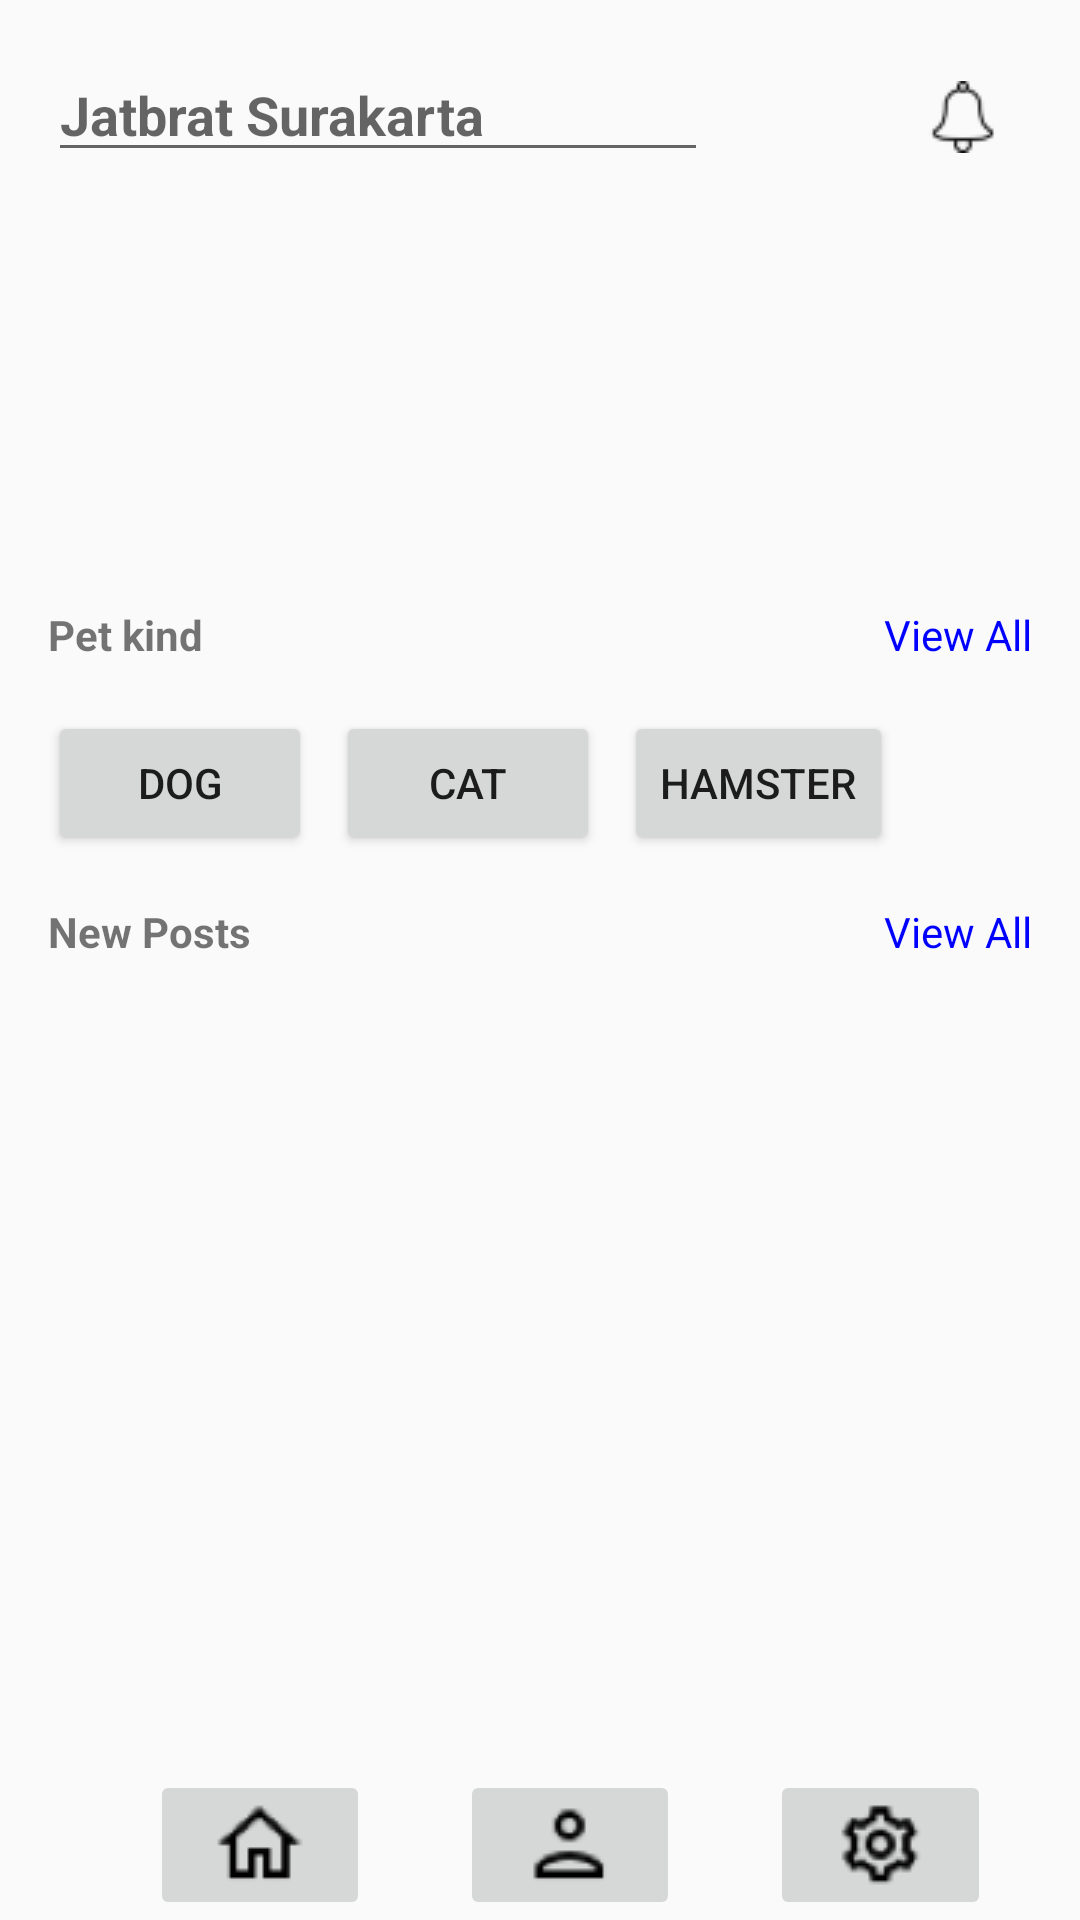

Screen size 1080x1920. Icon name, then its box in pixels as bbox=[x1, y1, x2, y2]:
home: bbox=[162, 1788, 358, 1902]
Notification: bbox=[932, 81, 994, 153]
Profile: bbox=[472, 1788, 668, 1902]
setting: bbox=[782, 1788, 979, 1902]
